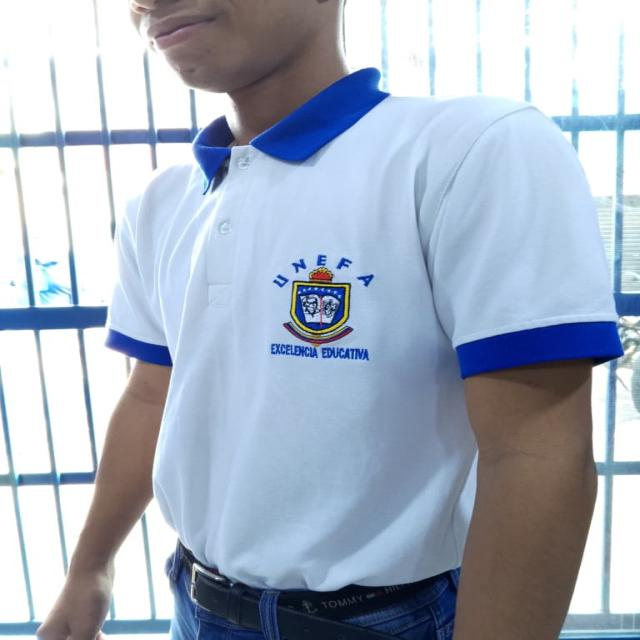uniforme_superior: (102, 66, 624, 594)
